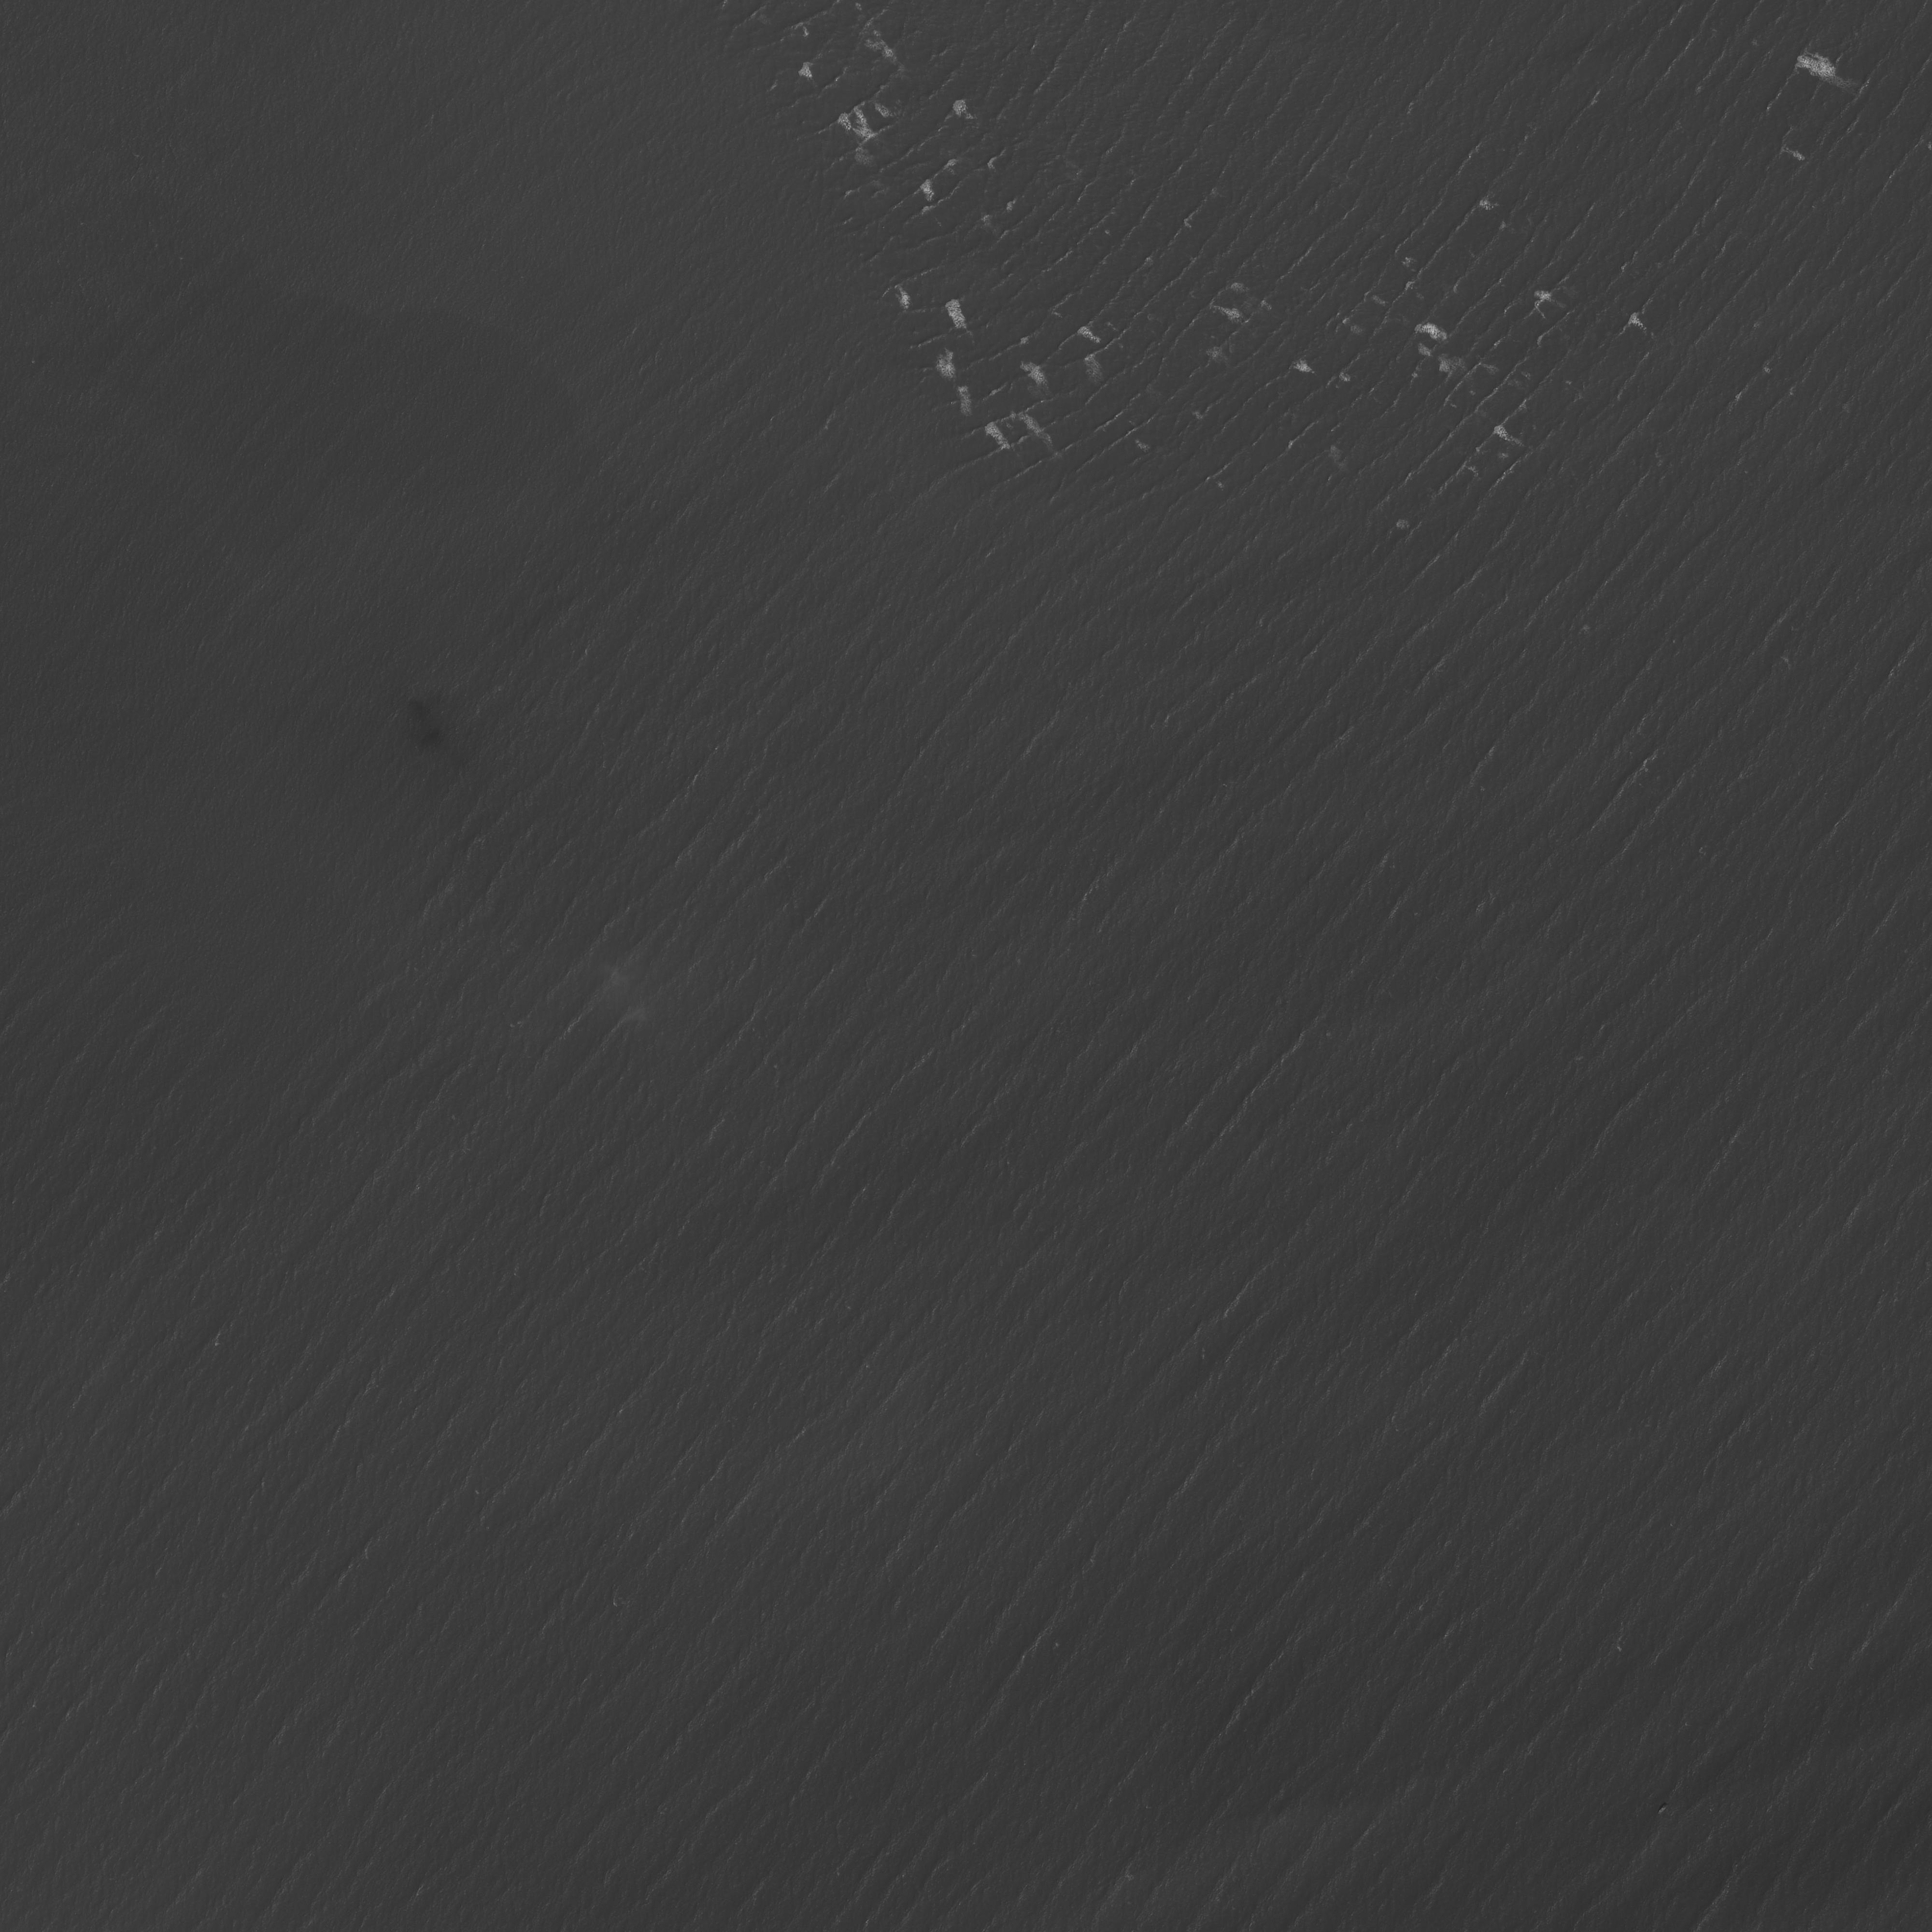ship: (1656, 1803, 1668, 1815)
